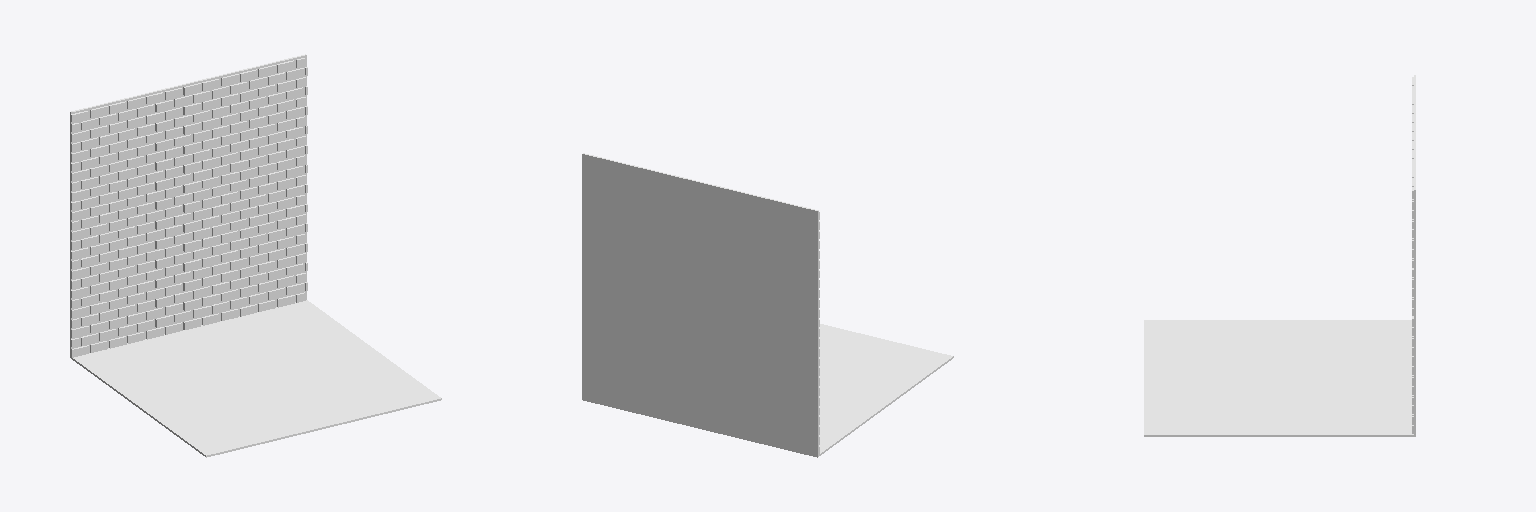
The model's file is стена-6.obj.
3 views of the same model, side by side, from view 1: azimuth 30°, elevation 25°; view 2: azimuth 150°, elevation 25°; view 3: azimuth 270°, elevation 25° (orthographic).
Parts seen in each view (by area): view 1: object 1; view 2: object 1; view 3: object 1.
Boxes of the visible parts, <box> form: object 1: <box>70,54,441,457</box>; object 1: <box>582,153,953,457</box>; object 1: <box>1144,75,1415,436</box>.
Bounding box in the file's own units: 12.6 × 12.6 × 12.6.